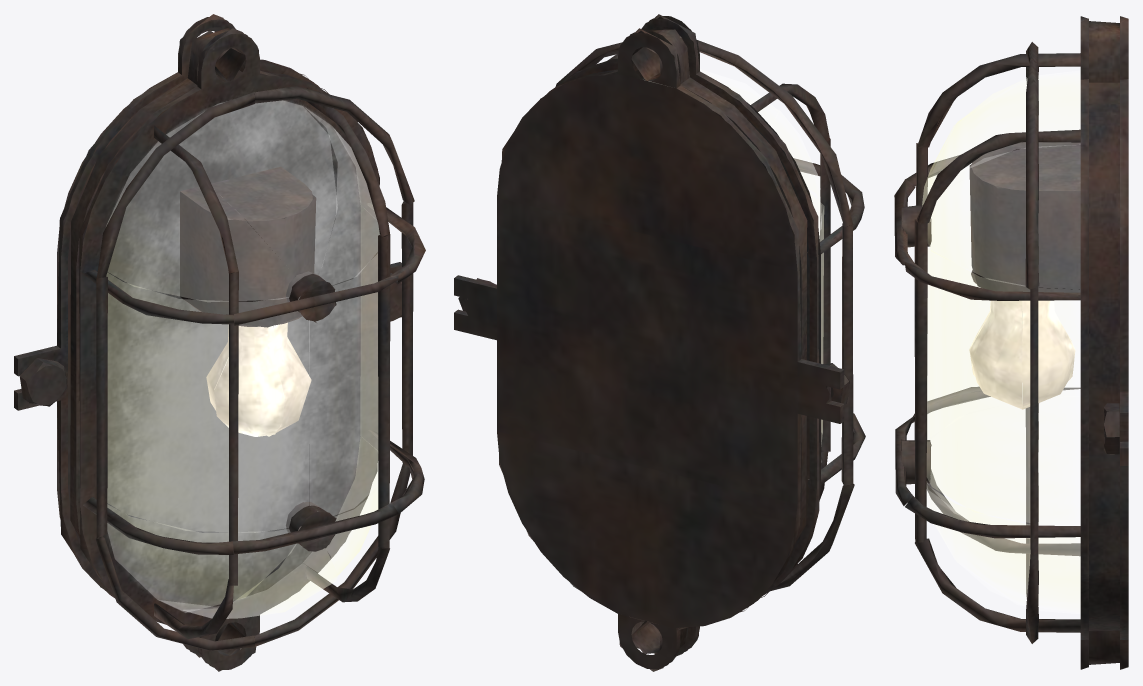
Rendered from industrial_wall_lamp.glb.
3 views of the same model, side by side, from view 1: azimuth 30°, elevation 25°; view 2: azimuth 150°, elevation 25°; view 3: azimuth 270°, elevation 25° (orthographic). The views are drawn at different scales.
Visible parts, largest first — view 1: CC0_industrial_wall_lamp; view 2: CC0_industrial_wall_lamp; view 3: CC0_industrial_wall_lamp.
Part boxes in pixels (box(x1,y1,x2,y2)): CC0_industrial_wall_lamp: box(14, 14, 425, 671); CC0_industrial_wall_lamp: box(454, 14, 865, 671); CC0_industrial_wall_lamp: box(894, 16, 1128, 669).
Size of the model in its own units: 0.3421 by 0.54 by 0.1749.
2 materials, 2 textured.
